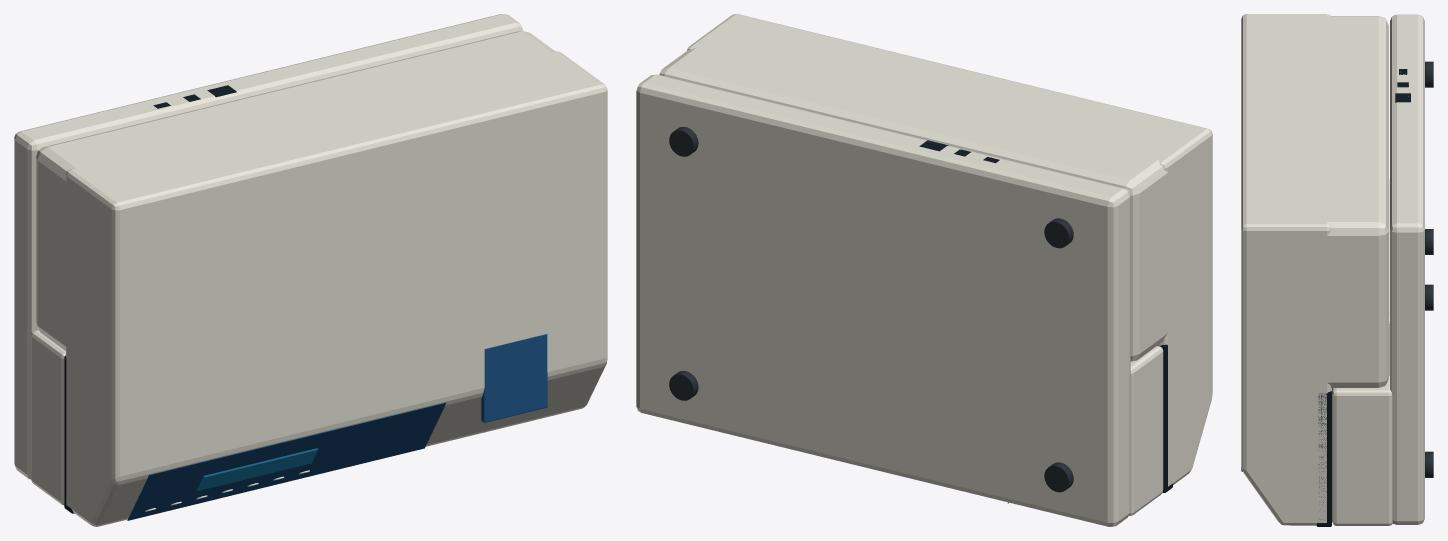
File: molecular_devices_spectramax_plus_384.glb
3 views of the same model, side by side, from view 1: azimuth 30°, elevation 25°; view 2: azimuth 150°, elevation 25°; view 3: azimuth 270°, elevation 25° (orthographic). The views are drawn at different scales.
Visible parts, largest first — view 1: Drawer front, Blue sloping control fascia, Green LCD, Cuvette optical port; view 2: Drawer front, Isolating foot, Cuvette optical port; view 3: Drawer front, Cuvette optical port, Isolating foot.
Part boxes in pixels (box(x1,y1,x2,y2)): Drawer front: box(14, 14, 607, 526); Blue sloping control fascia: box(127, 334, 547, 520); Green LCD: box(197, 448, 318, 490); Cuvette optical port: box(64, 85, 236, 513); Drawer front: box(636, 14, 1212, 526); Isolating foot: box(669, 127, 1073, 492); Cuvette optical port: box(919, 140, 1172, 492); Drawer front: box(1241, 14, 1424, 525); Cuvette optical port: box(1316, 69, 1410, 526); Isolating foot: box(1425, 61, 1433, 477).
Bounding box in the file's own units: 0.58 × 0.3802 × 0.2202.
